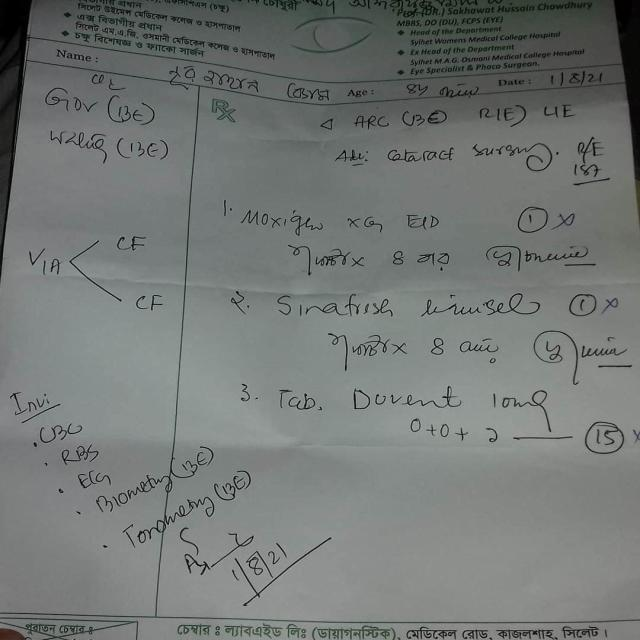Duvent: (348, 386, 466, 412)
Moxigen XG: (242, 207, 397, 242)
Sinafresh Liquigel: (268, 288, 561, 328)
